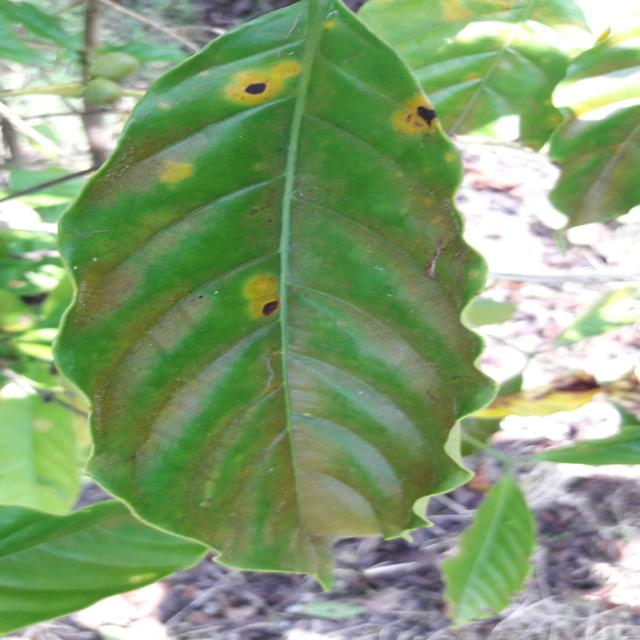Enfermedad-Roya: (54, 0, 499, 590)
